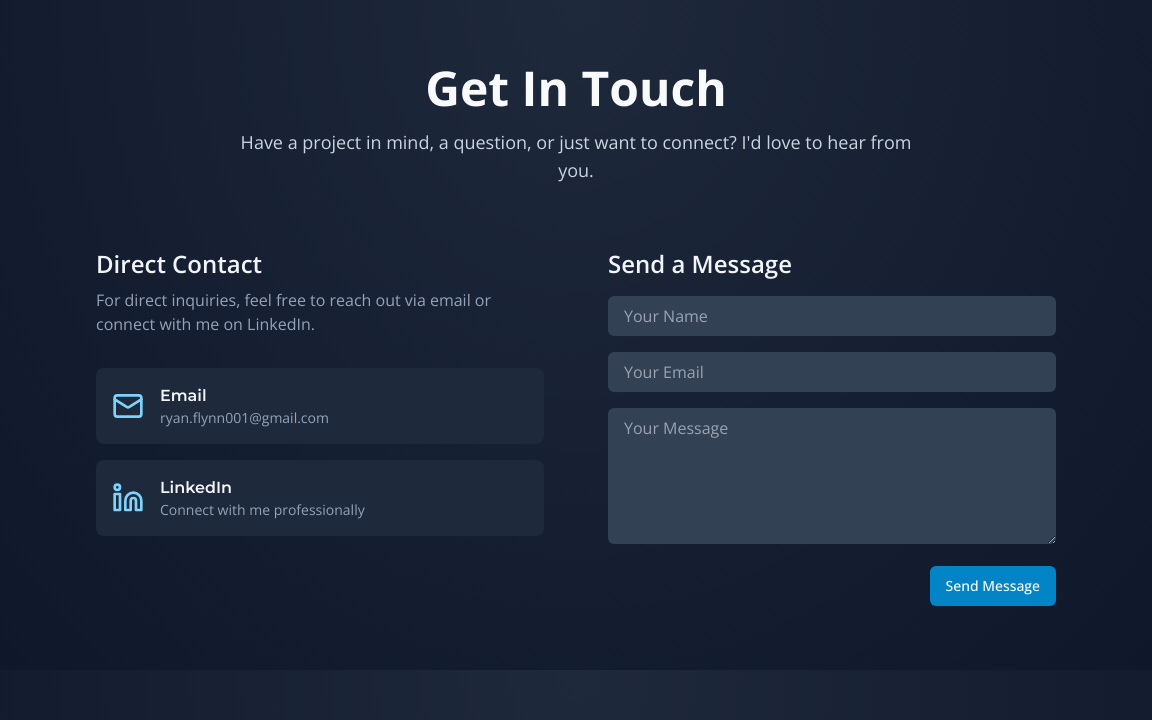
ContactPageClient › displays success message when email is sent
Type "John Doe" into the field with placeholder "Your Name" at (832, 316), box [608,296,1056,336]
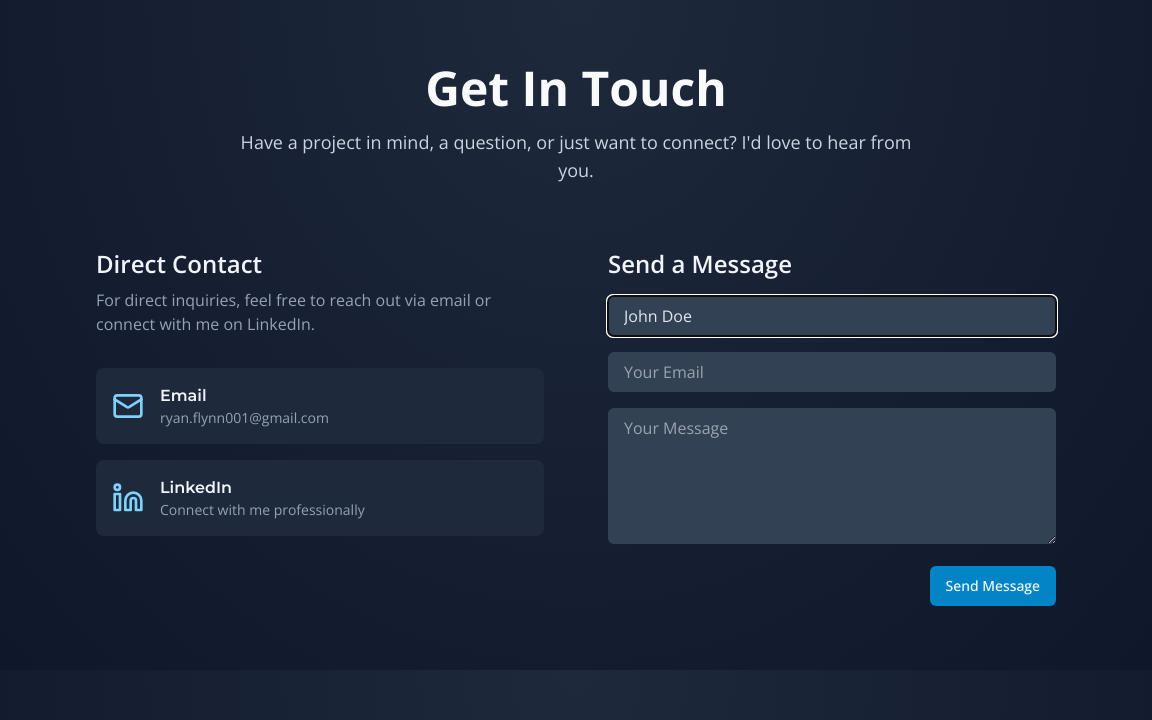
Type "john@example.com" into the field with placeholder "Your Email" at (832, 372), box [608,352,1056,392]
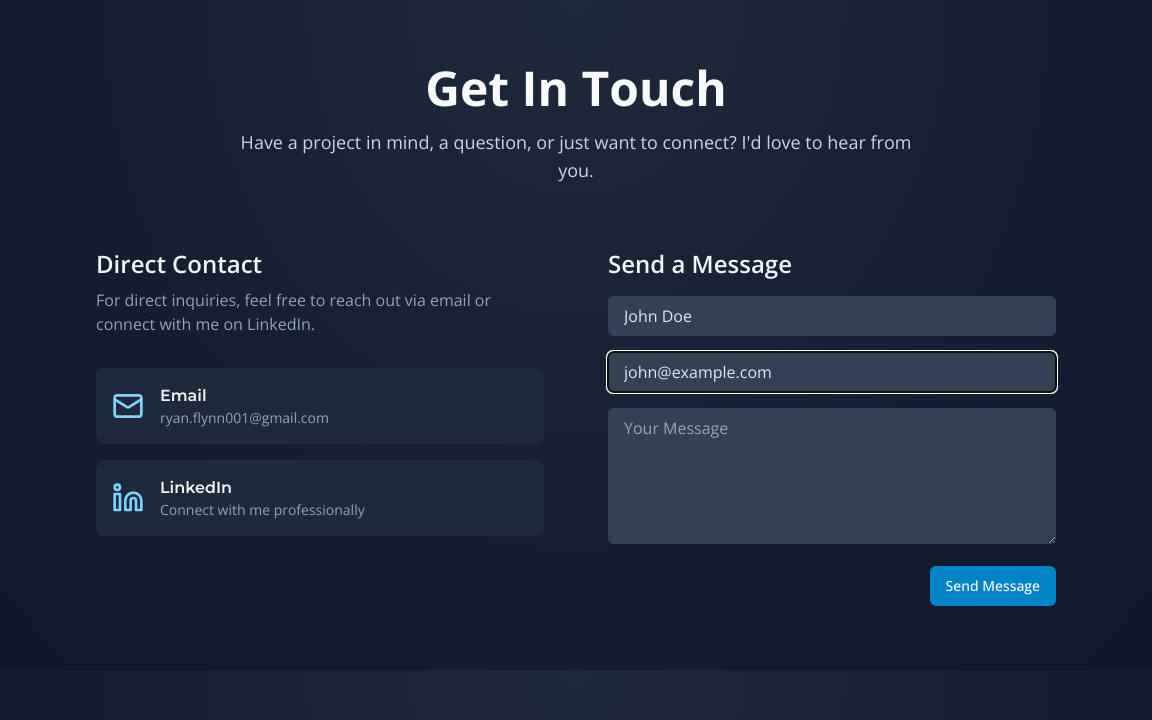
Type "Test message" into the text box with placeholder "Your Message" at (832, 476), box [608,408,1056,544]
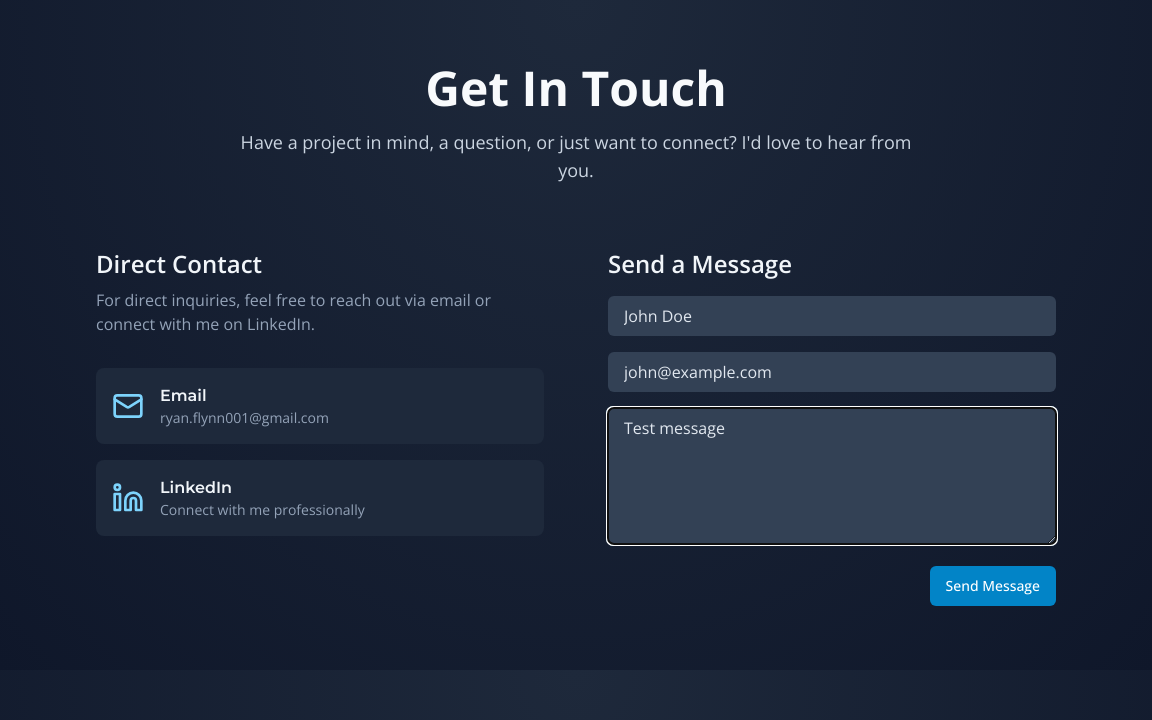
Click the button "Send Message" at (993, 586), box [930,566,1056,606]
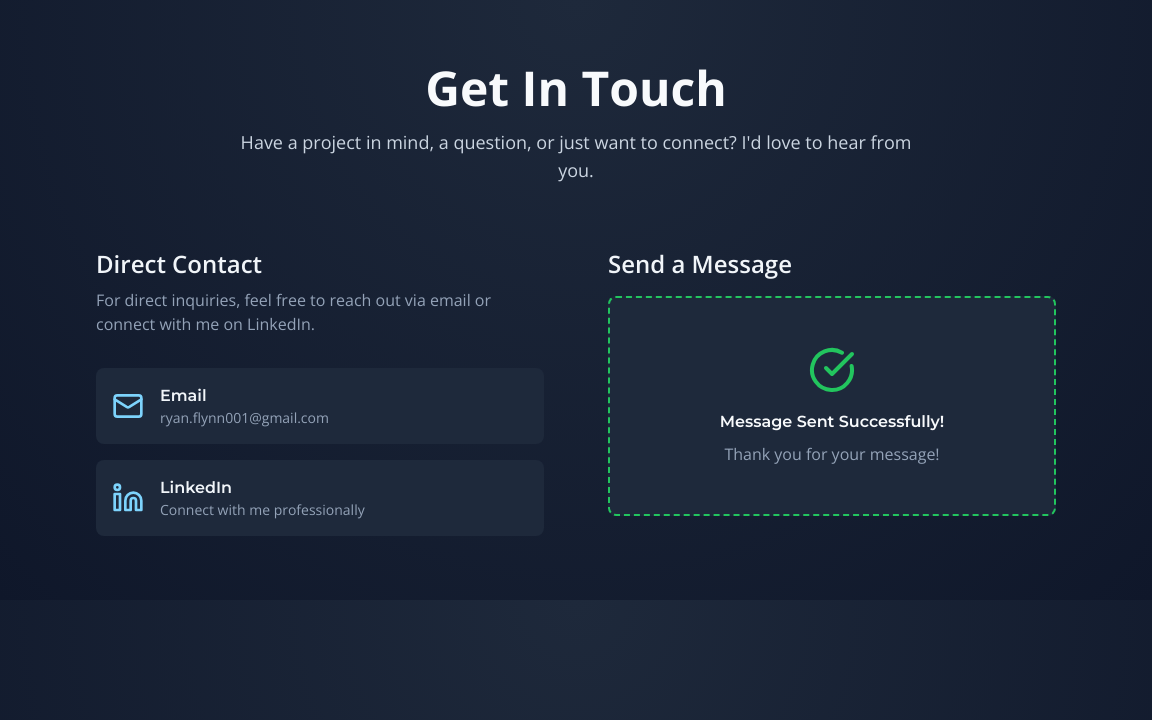
Check: the heading "Message Sent Successfully!" is shown, box [720,410,944,434]
Check: the text "Thank you for your message!" is shown, box [724,442,940,466]
